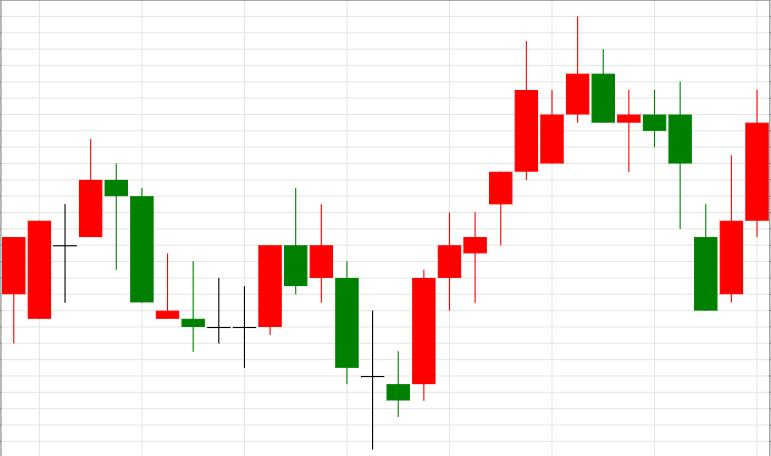shooting_star_fall: (413, 17, 589, 402), (208, 188, 308, 368)
